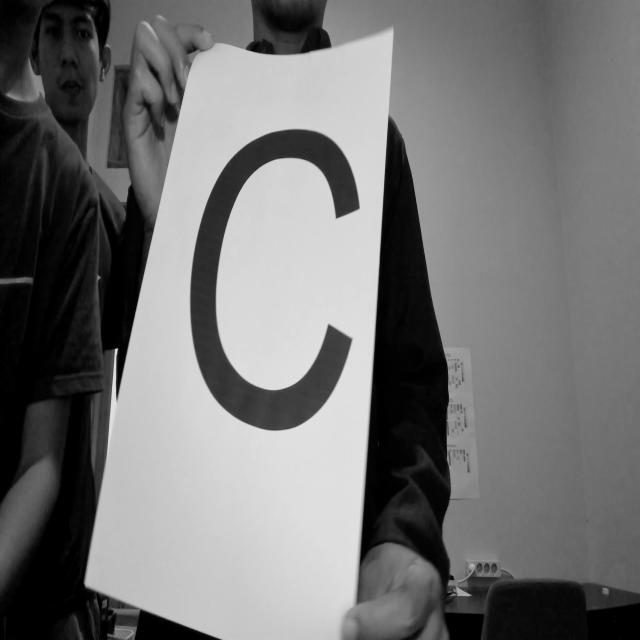c: (190, 95, 360, 518)
